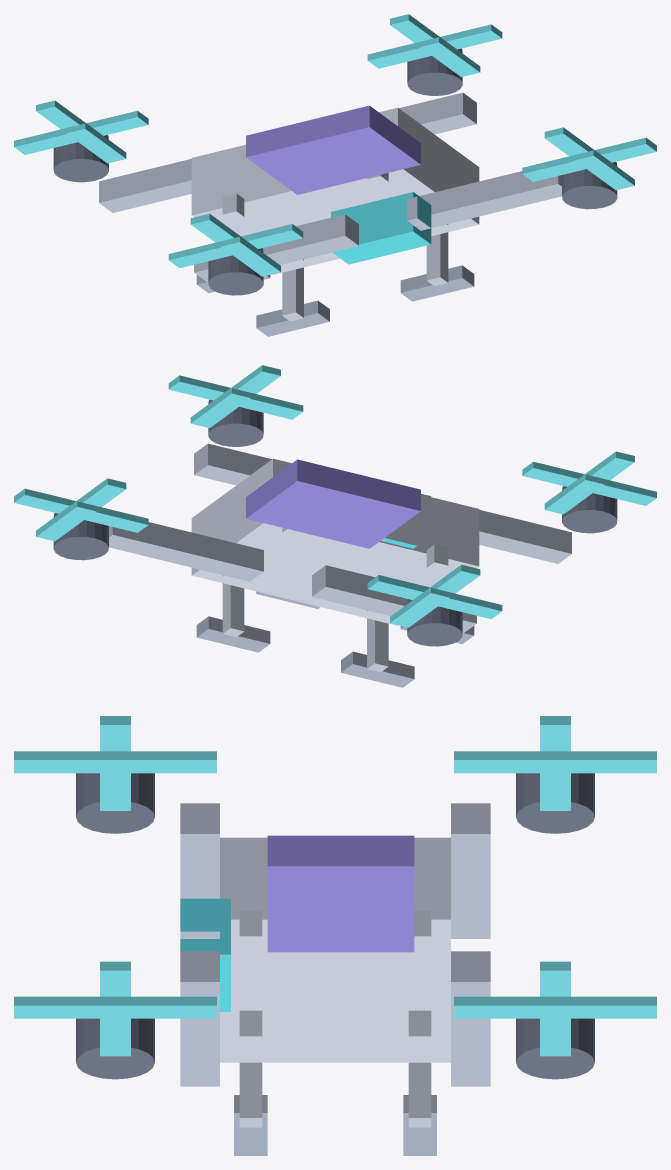
Rendered from inspection-drone.glb.
3 views of the same model, one above another, from view 1: azimuth 30°, elevation 25°; view 2: azimuth 150°, elevation 25°; view 3: azimuth 270°, elevation 25° (orthographic). The views are drawn at different scales.
Visible parts, largest first — view 1: Rotor blade (×8), Aero shell, Rotor arm (×4), Top cover, Motor (×4), Sensor nose, Landing foot (×2), Landing strut (×2); view 2: Aero shell, Rotor blade (×8), Rotor arm (×4), Top cover, Motor (×4), Landing foot (×2), Landing strut (×2); view 3: Aero shell, Rotor blade (×8), Rotor arm (×4), Top cover, Motor (×4), Landing strut (×3), Sensor nose, Landing foot (×2).
Part boxes in pixels (<box>): Rotor blade (×8): <box>14,14,656,276</box>; Aero shell: <box>191,107,479,274</box>; Rotor arm (×4): <box>99,92,561,282</box>; Top cover: <box>246,105,420,194</box>; Motor (×4): <box>53,48,617,295</box>; Sensor nose: <box>331,192,431,264</box>; Landing foot (×2): <box>256,265,474,336</box>; Landing strut (×2): <box>282,224,448,321</box>; Aero shell: <box>191,458,479,625</box>; Rotor blade (×8): <box>14,365,656,627</box>; Rotor arm (×4): <box>109,443,571,633</box>; Top cover: <box>246,459,420,548</box>; Motor (×4): <box>53,399,617,646</box>; Landing foot (×2): <box>196,616,414,687</box>; Landing strut (×2): <box>222,575,388,672</box>; Aero shell: <box>220,837,450,1062</box>; Rotor blade (×8): <box>14,716,656,1056</box>; Rotor arm (×4): <box>180,803,490,1086</box>; Top cover: <box>267,835,414,952</box>; Motor (×4): <box>76,773,594,1079</box>; Landing strut (×3): <box>239,910,431,1127</box>; Sensor nose: <box>180,898,230,1011</box>; Landing foot (×2): <box>234,1095,436,1155</box>.
Size of the model in its own units: 2.78 by 0.805 by 2.28.
